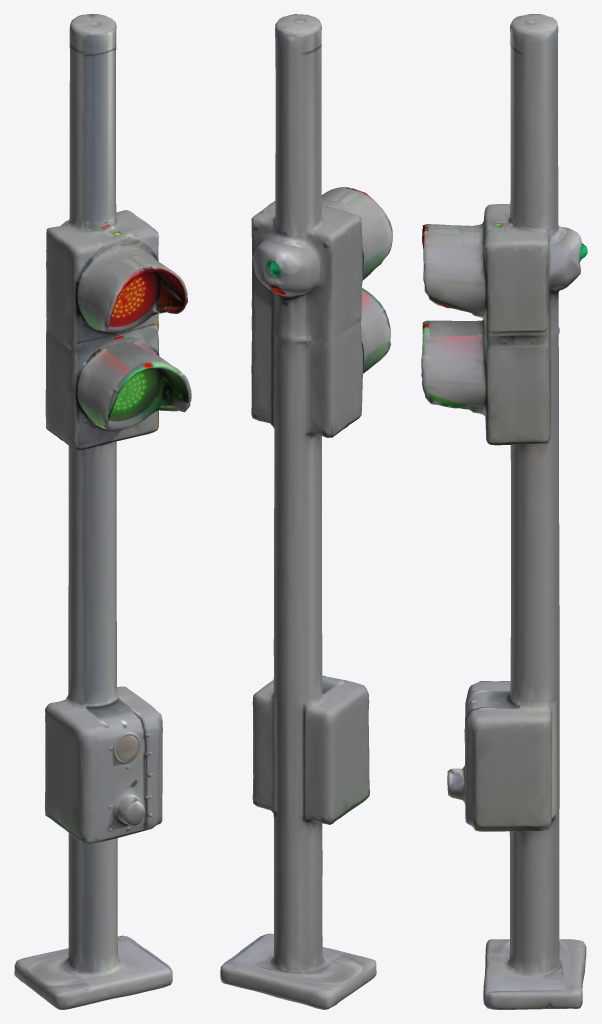
File: traffic_light.glb
3 views of the same model, side by side, from view 1: azimuth 30°, elevation 25°; view 2: azimuth 150°, elevation 25°; view 3: azimuth 270°, elevation 25° (orthographic).
Size of the model in its own units: 0.2558 by 2.01 by 0.316.
Materials: 1 (1 with a texture image).
